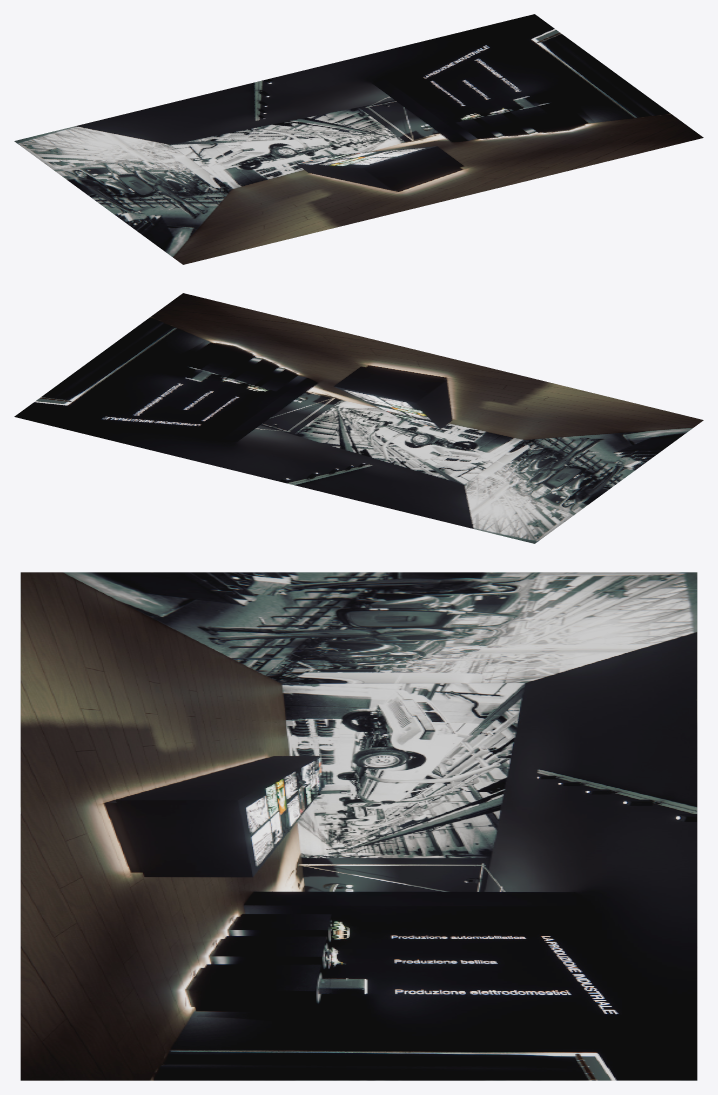
Rendered from tavoloama.obj.
3 views of the same model, one above another, from view 1: azimuth 30°, elevation 25°; view 2: azimuth 150°, elevation 25°; view 3: azimuth 270°, elevation 25° (orthographic). The views are drawn at different scales.
Visible parts, largest first — view 1: Plane001; view 2: Plane001; view 3: Plane001.
Boxes of the visible parts, x1,y1,x2,y2 form: Plane001: [14, 14, 703, 264]; Plane001: [14, 293, 703, 543]; Plane001: [20, 572, 697, 1080].
Size of the model in its own units: 26.67 by 0 by 15.
